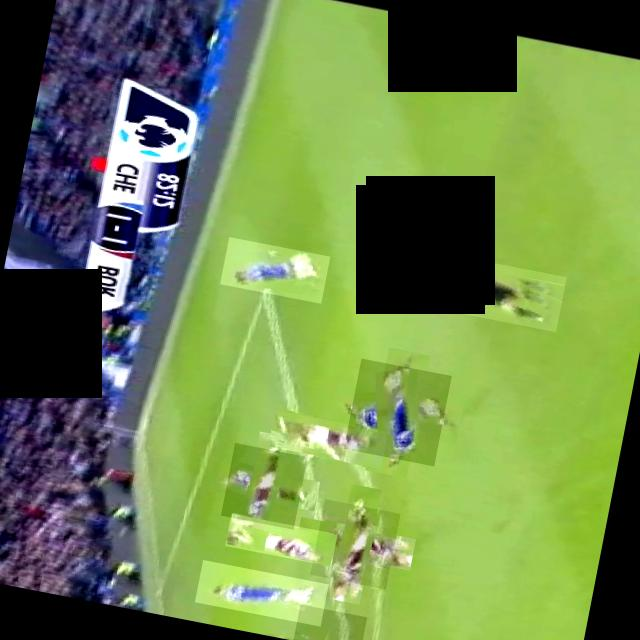referee: (418, 250, 567, 332)
soccer-player: (344, 358, 452, 466), (195, 559, 329, 626), (310, 498, 400, 588), (221, 442, 308, 529), (220, 236, 330, 303), (269, 409, 388, 468), (225, 512, 338, 566), (293, 603, 367, 640)
